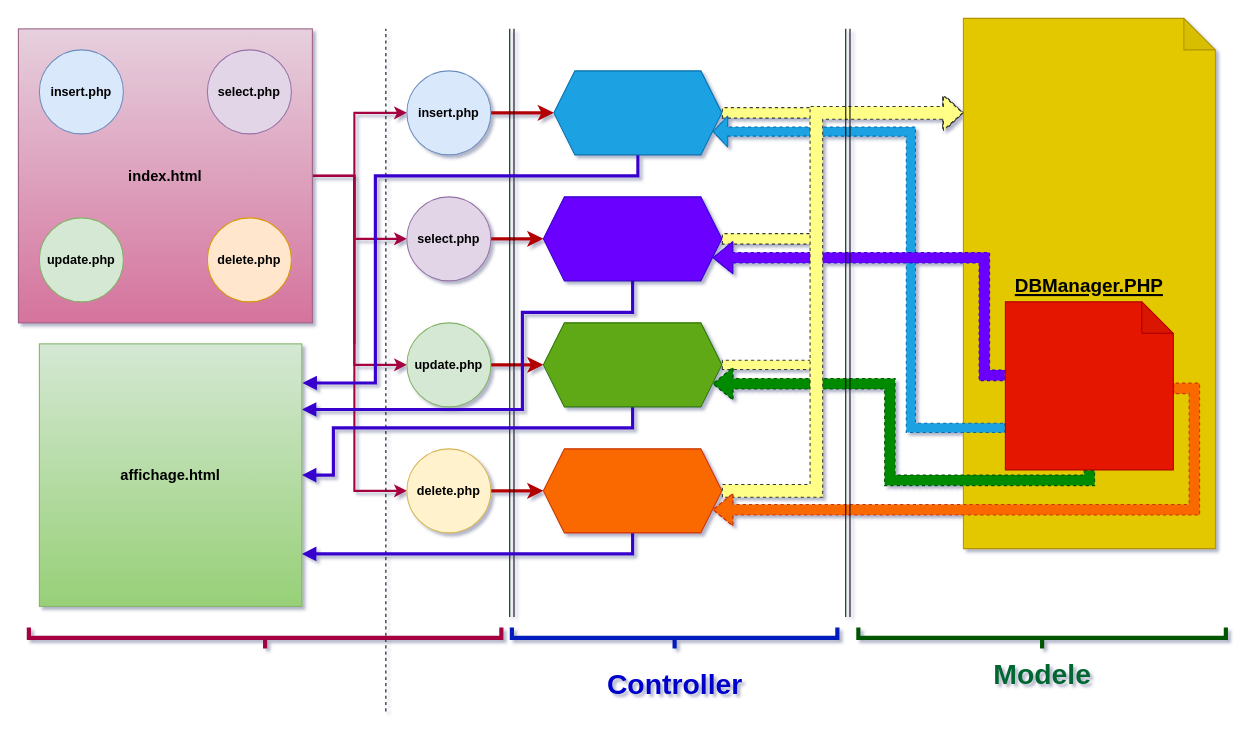
Some shapes in this 1253 by 737 pixel diagram are drawn without their labels. Each missing label, with the centre of its shape:
"exeCreate.php" goes at pixel 637 112.
"exeDelete.php" goes at pixel 632 490.
"exeRead.php" goes at pixel 632 238.
"exUpdate.php" goes at pixel 632 364.
"functionCRUD.php" goes at pixel 1088 385.
"View" goes at pixel 264 637.
